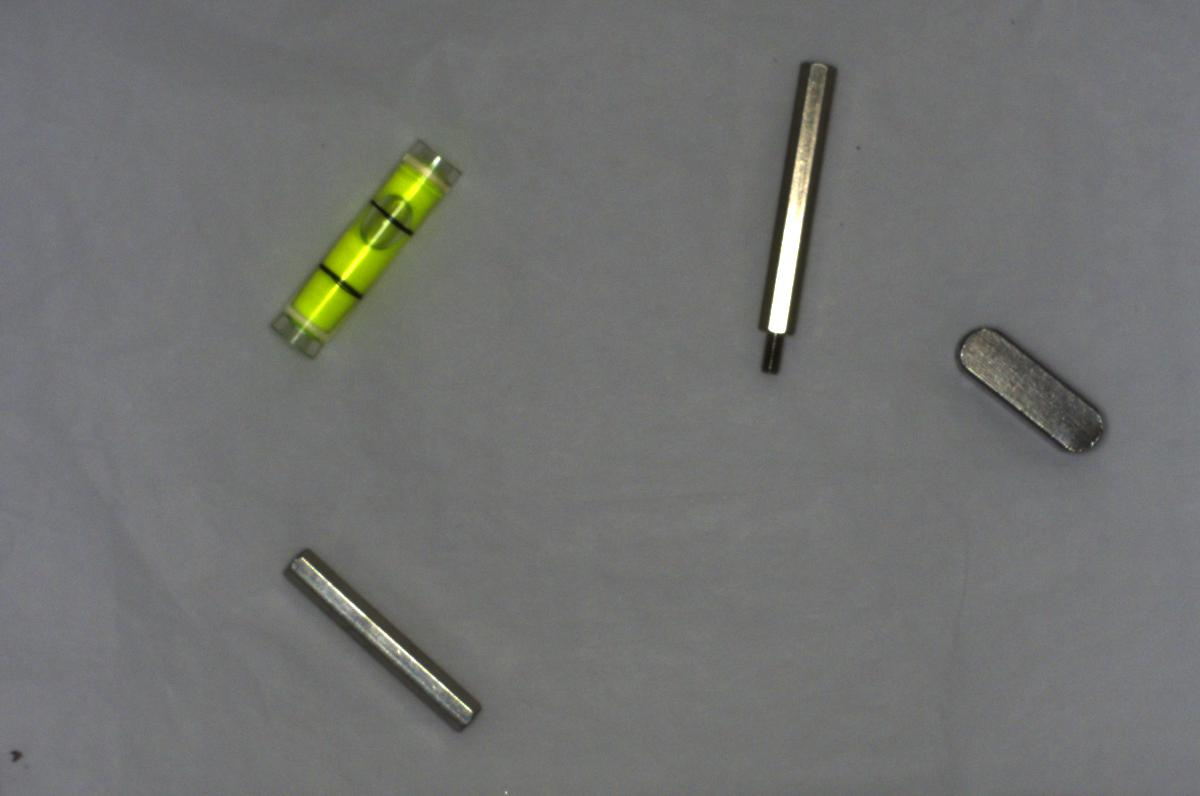Double hexagonal column: (268, 535, 492, 736)
Hexagonal steel column: (745, 52, 840, 380)
Horizontal bubble: (262, 134, 464, 356)
Keybar: (946, 322, 1115, 456)
